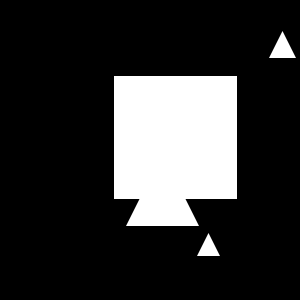circle: (114, 76, 237, 199)
triangle: (126, 153, 199, 226), (269, 31, 296, 58), (197, 233, 220, 256)
